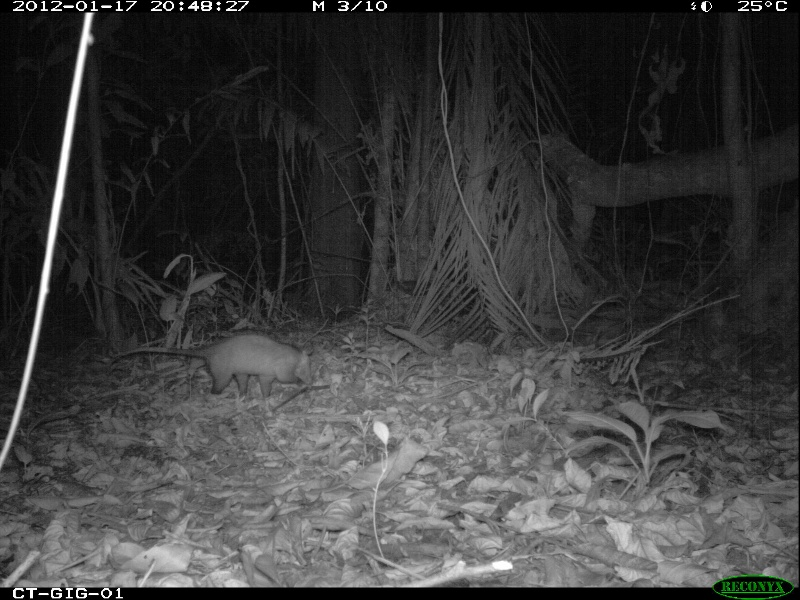opossum: (118, 329, 319, 396)
